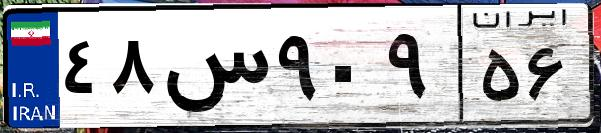0: (330, 28, 385, 110)
4: (57, 26, 110, 100)
5: (475, 38, 525, 113)
6: (525, 38, 570, 115)
8: (110, 28, 158, 98)
9: (270, 28, 330, 110), (385, 28, 445, 110)
س: (158, 20, 270, 120)
